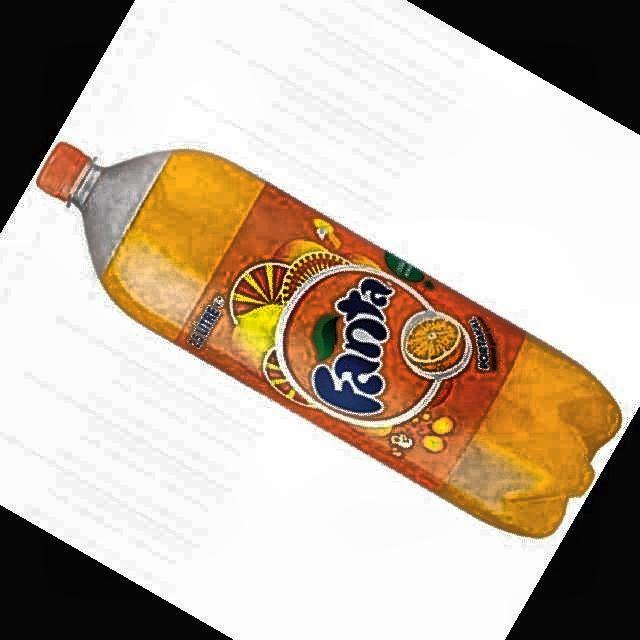plastic: (38, 142, 621, 537)
